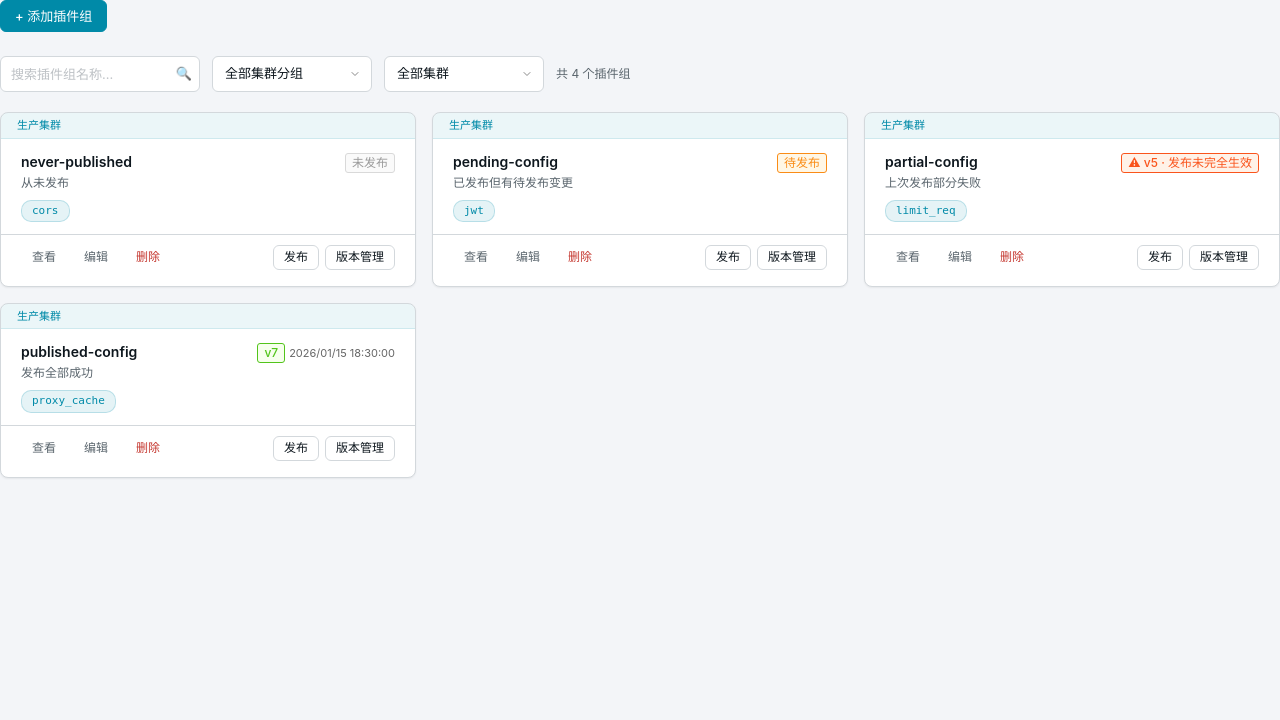
PluginConfigList.vue — 发布确认弹窗（5.5：资源名 + 新版本号说明） › 未发布插件组：不显示版本说明行
Click the button "发布" below "cors": (296, 258) [273,245,319,270]
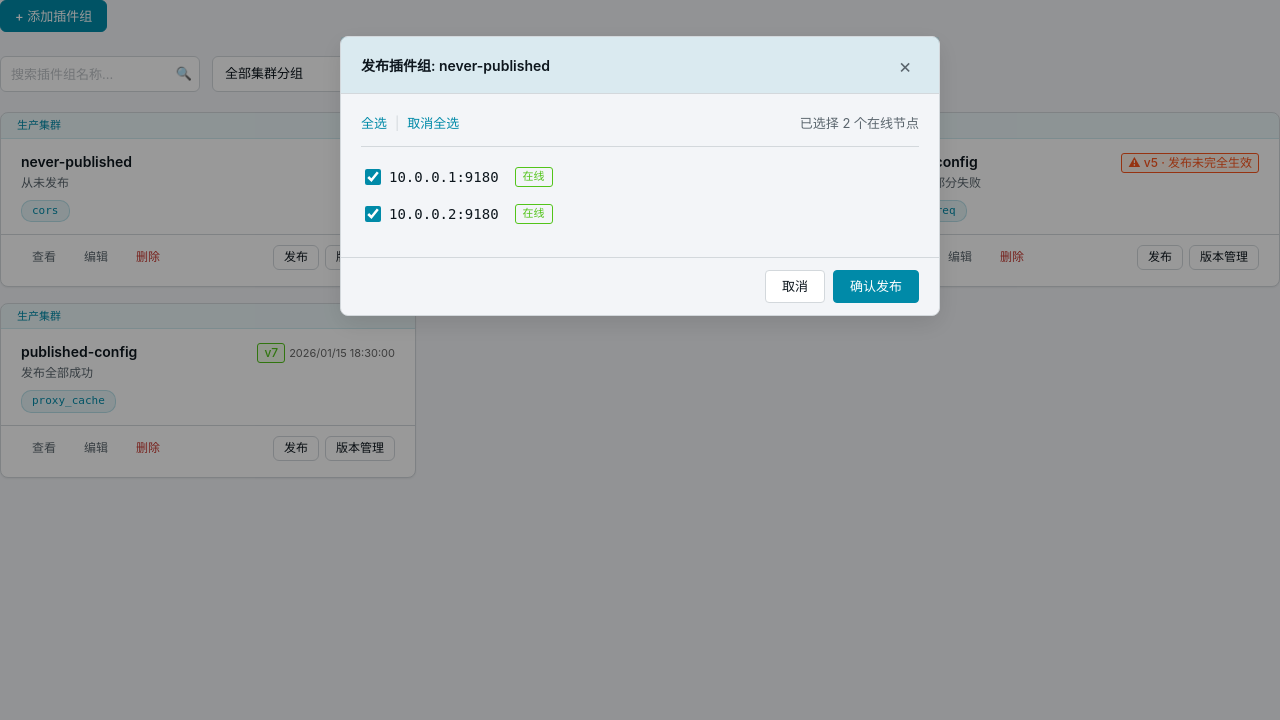
expect the heading "发布插件组: never-published" is shown: met, box [361,54,550,76]
